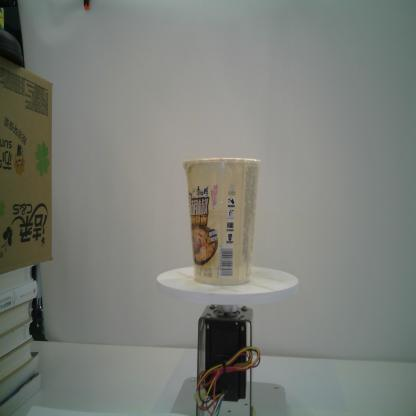Instant Noodles: (181, 156, 263, 287)
